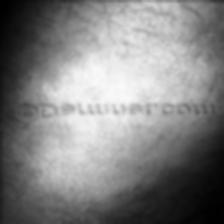Potentially Malignant Skin Tumors: (23, 118, 170, 198), (30, 52, 224, 103)
